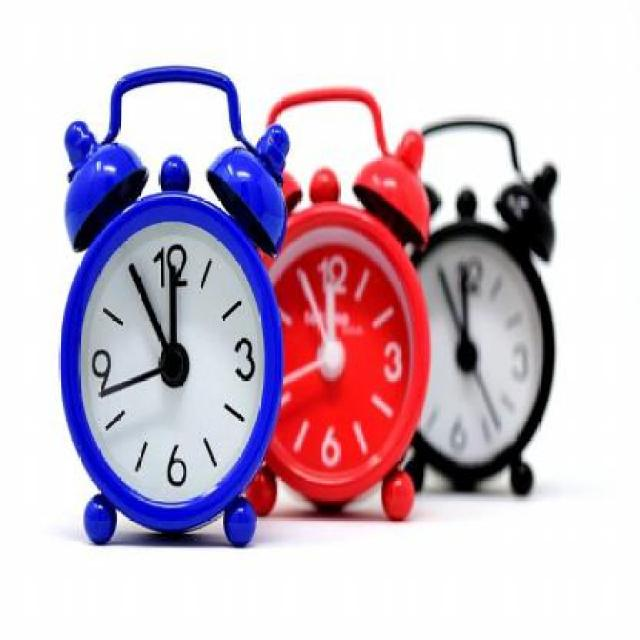clock: (77, 214, 263, 503), (281, 243, 409, 480), (426, 240, 545, 469)
